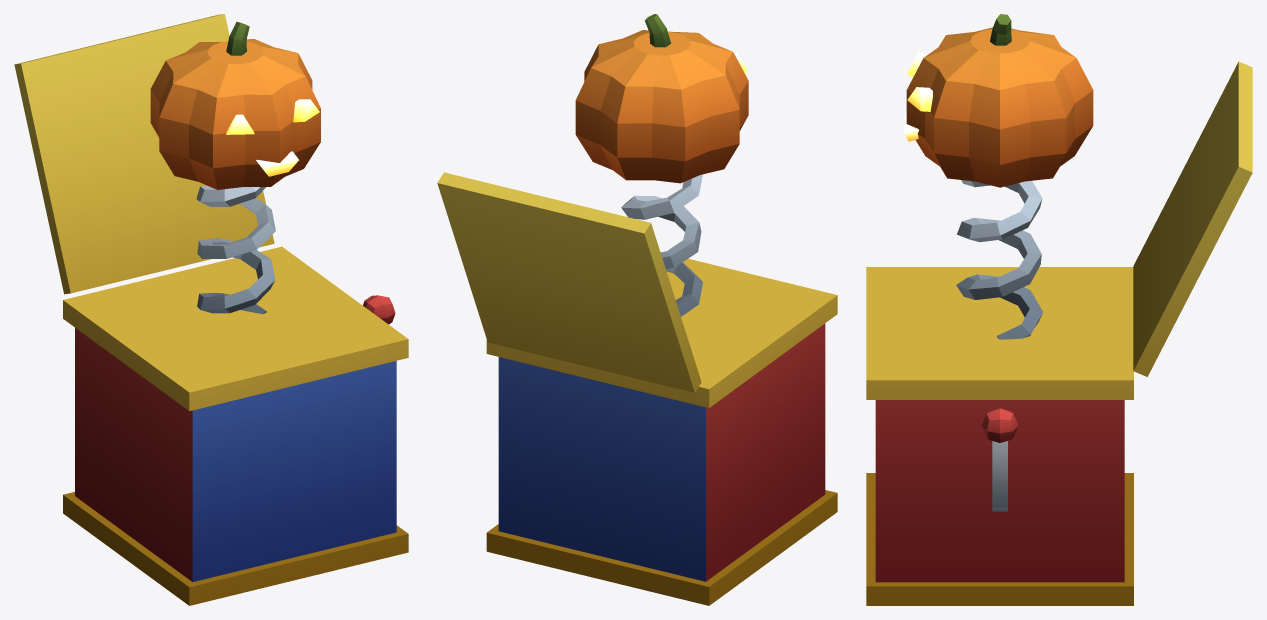
Rendered from PlayGround_Kit_Jack_In_The_Box.fbx.
3 renders of one model, left to right at view 1: azimuth 30°, elevation 25°; view 2: azimuth 150°, elevation 25°; view 3: azimuth 270°, elevation 25°, orthographic. The views are drawn at different scales.
Visible parts, largest first — view 1: PlayGround_Kit_Jack_In_The_Box; view 2: PlayGround_Kit_Jack_In_The_Box; view 3: PlayGround_Kit_Jack_In_The_Box.
Boxes of the visible parts, <box> form: PlayGround_Kit_Jack_In_The_Box: <box>14,14,408,605</box>; PlayGround_Kit_Jack_In_The_Box: <box>437,14,837,605</box>; PlayGround_Kit_Jack_In_The_Box: <box>866,14,1252,605</box>.
Size of the model in its own units: 1.05 by 1.91 by 1.24.
